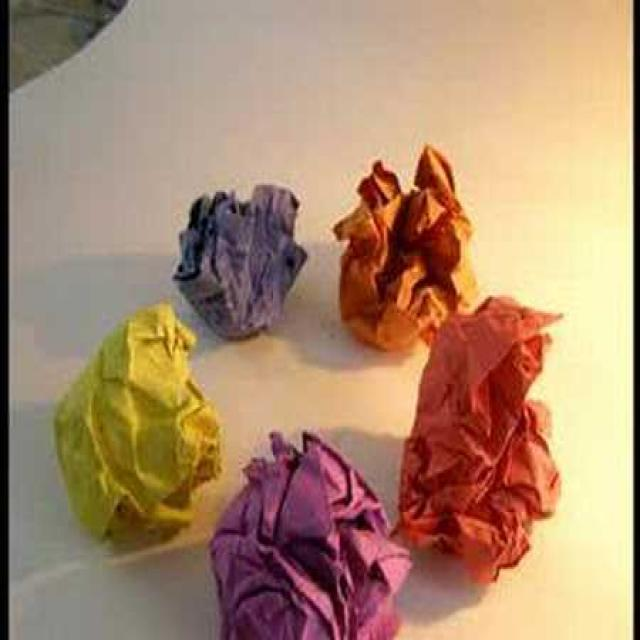Paper: (397, 297, 563, 587), (53, 302, 223, 553), (208, 436, 414, 640), (333, 146, 479, 354), (174, 185, 309, 343)
